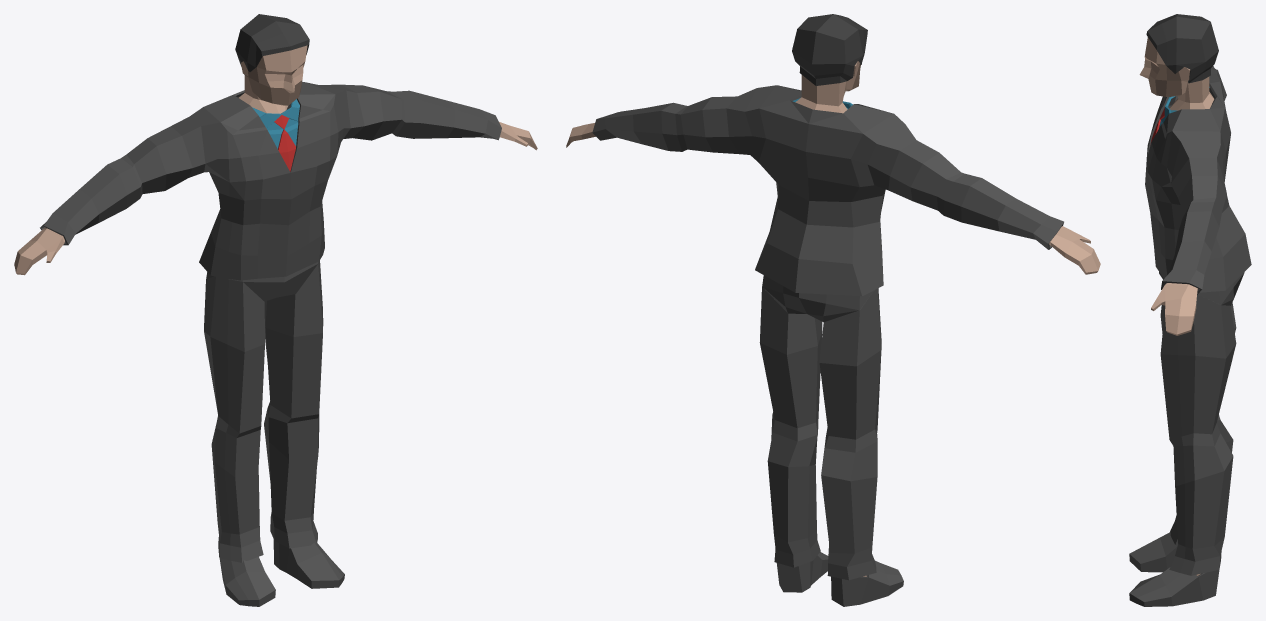
Rendered from working.fbx.
3 renders of one model, left to right at view 1: azimuth 30°, elevation 25°; view 2: azimuth 150°, elevation 25°; view 3: azimuth 270°, elevation 25°, orthographic. The views are drawn at different scales.
Parts seen in each view (by area): view 1: coat, pants, body, shoes, hair, shirt; view 2: coat, pants, hair, shoes, body; view 3: pants, coat, body, shoes, hair, shirt.
Boxes of the visible parts, bbox=[...] form: coat: bbox=[40, 82, 501, 280]; pants: bbox=[204, 260, 323, 562]; body: bbox=[14, 45, 537, 275]; shoes: bbox=[219, 539, 344, 606]; hair: bbox=[235, 14, 309, 76]; shirt: bbox=[252, 99, 299, 171]; coat: bbox=[592, 85, 1063, 296]; pants: bbox=[759, 275, 881, 580]; hair: bbox=[792, 14, 867, 85]; shoes: bbox=[776, 552, 903, 606]; body: bbox=[566, 61, 1100, 576]; pants: bbox=[1159, 272, 1244, 575]; coat: bbox=[1145, 66, 1251, 294]; body: bbox=[1139, 37, 1214, 575]; shoes: bbox=[1129, 532, 1219, 606]; hair: bbox=[1146, 14, 1218, 83]; shirt: bbox=[1150, 87, 1209, 143].
Size of the model in its own units: 331 by 341 by 66.79.
